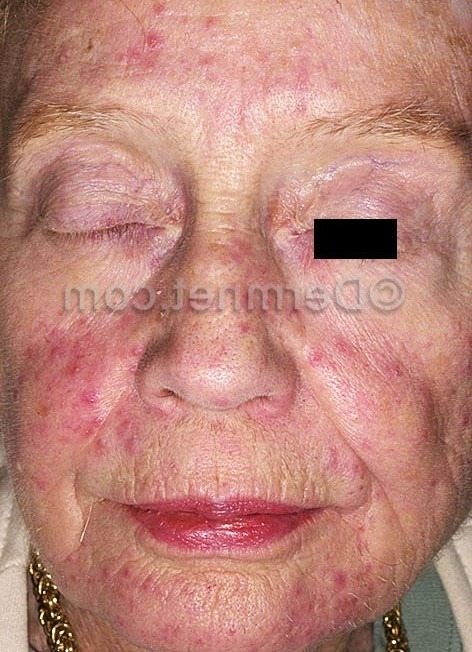Acne: (21, 8, 429, 637)
